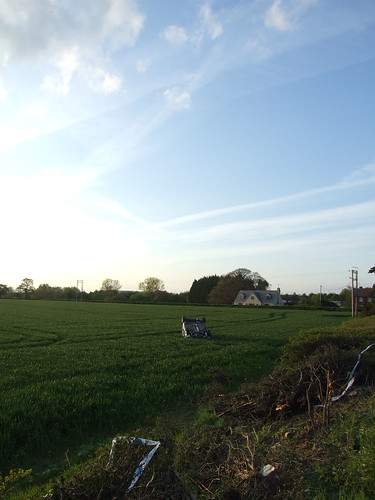building: (227, 285, 288, 308)
grass: (6, 312, 375, 500)
sky: (1, 1, 374, 275)
vegetation: (1, 277, 229, 308)
